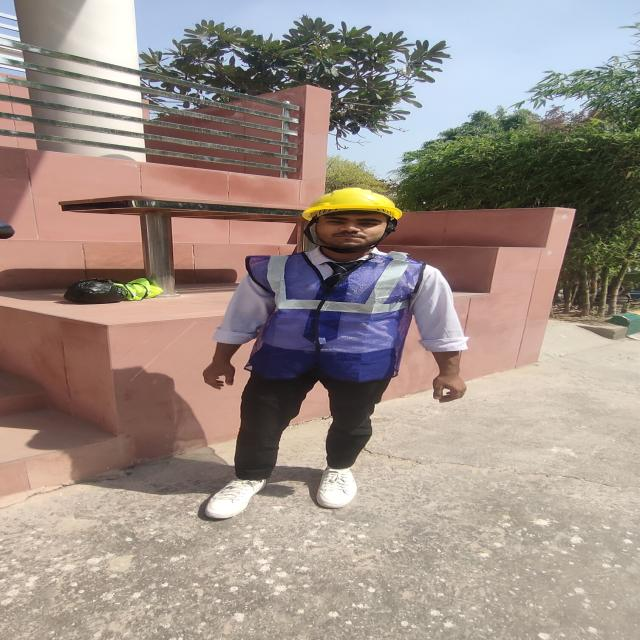safe: (204, 188, 466, 518)
